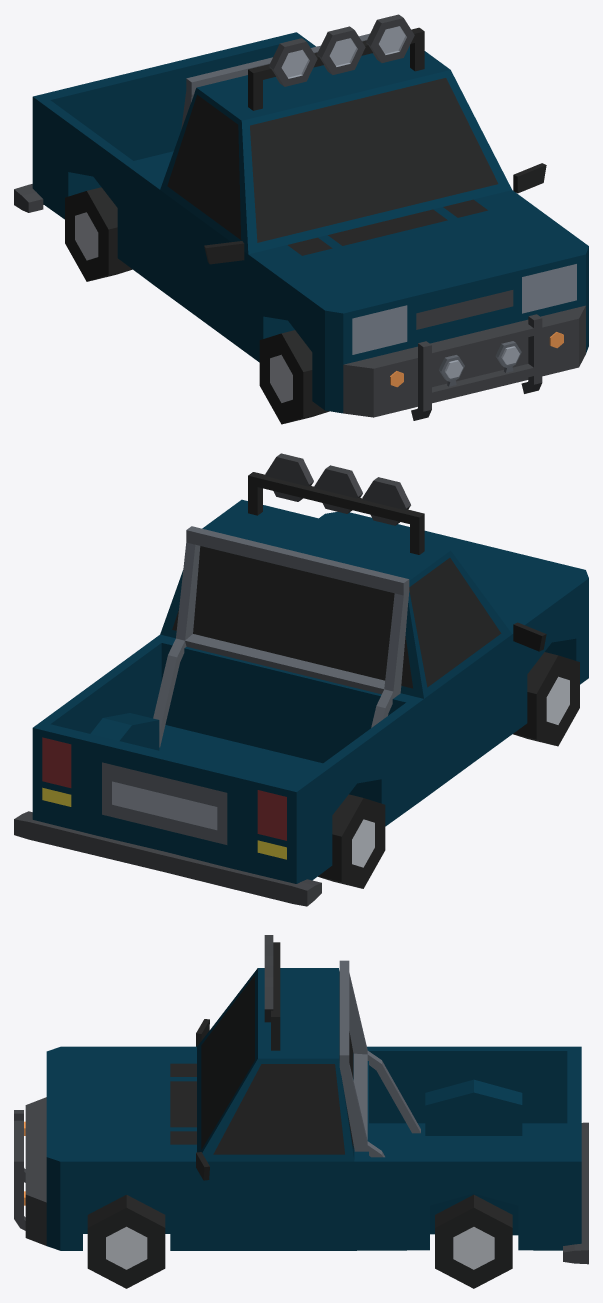
The model's file is Vehicles_Land.fbx.
3 views of the same model, one above another, from view 1: azimuth 30°, elevation 25°; view 2: azimuth 150°, elevation 25°; view 3: azimuth 270°, elevation 25° (orthographic). The views are drawn at different scales.
Parts seen in each view (by area): view 1: Vehicles_Land; view 2: Vehicles_Land; view 3: Vehicles_Land.
Boxes of the visible parts, x1=… form: Vehicles_Land: x1=14, y1=14, x2=588, y2=424; Vehicles_Land: x1=14, y1=453, x2=588, y2=906; Vehicles_Land: x1=14, y1=935, x2=588, y2=1288.
Bounding box in the file's own units: 306 × 258 × 501.
